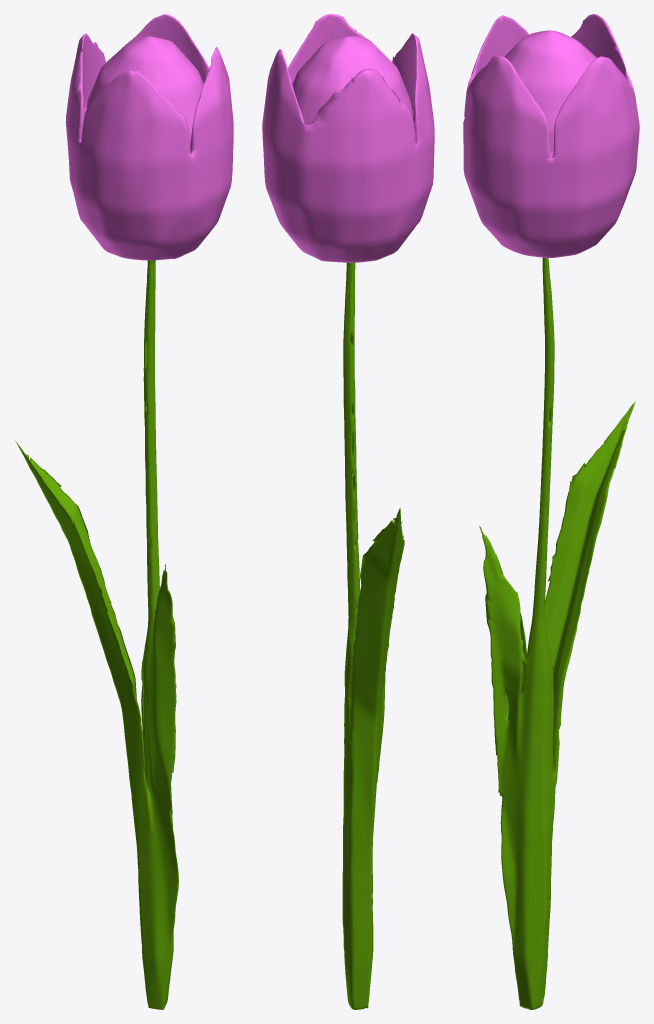
Rendered from pink.glb.
3 renders of one model, left to right at view 1: azimuth 30°, elevation 25°; view 2: azimuth 150°, elevation 25°; view 3: azimuth 270°, elevation 25°, orthographic.
Visible parts, largest first — view 1: tulip_pink; view 2: tulip_pink; view 3: tulip_pink.
Boxes of the visible parts, bbox=[...] form: tulip_pink: bbox=[14, 14, 233, 1009]; tulip_pink: bbox=[262, 14, 434, 1009]; tulip_pink: bbox=[463, 14, 639, 1009].
Bounding box in the file's own units: 0.303 × 1.7 × 0.278.
